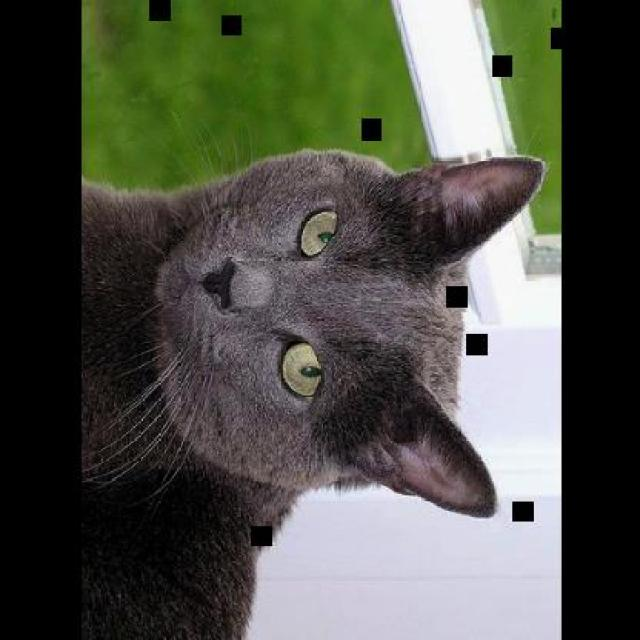unauthorized: (79, 136, 546, 638)
